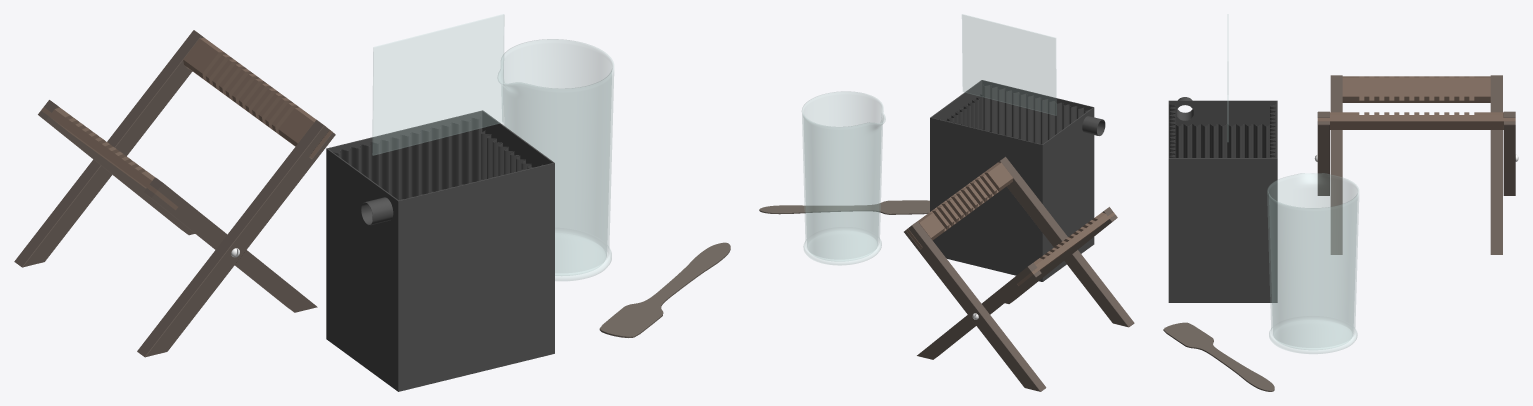
File: demoanim_step02.glb
3 views of the same model, side by side, from view 1: azimuth 30°, elevation 25°; view 2: azimuth 150°, elevation 25°; view 3: azimuth 270°, elevation 25° (orthographic). The views are drawn at different scales.
Visible parts, largest first — view 1: developtingTank.002, dryingrack.001, graduatedCylinder.002, glassplate.002, woodenSpoon.002; view 2: developtingTank.002, graduatedCylinder.002, dryingrack.001, glassplate.002, woodenSpoon.002; view 3: developtingTank.002, graduatedCylinder.002, dryingrack.001, woodenSpoon.002.
Boxes of the visible parts, x1,y1,x2,y2 form: developtingTank.002: (326, 110, 554, 391); dryingrack.001: (14, 30, 335, 357); graduatedCylinder.002: (498, 39, 613, 280); glassplate.002: (372, 14, 504, 155); woodenSpoon.002: (599, 242, 730, 337); developtingTank.002: (930, 80, 1105, 281); graduatedCylinder.002: (802, 91, 885, 265); dryingrack.001: (904, 156, 1134, 391); glassplate.002: (962, 14, 1056, 115); woodenSpoon.002: (759, 200, 929, 214); developtingTank.002: (1168, 97, 1277, 302); graduatedCylinder.002: (1267, 173, 1358, 353); dryingrack.001: (1314, 75, 1518, 254); woodenSpoon.002: (1163, 322, 1274, 391).
Bounding box in the file's own units: 30.1 × 16.31 × 22.12.
